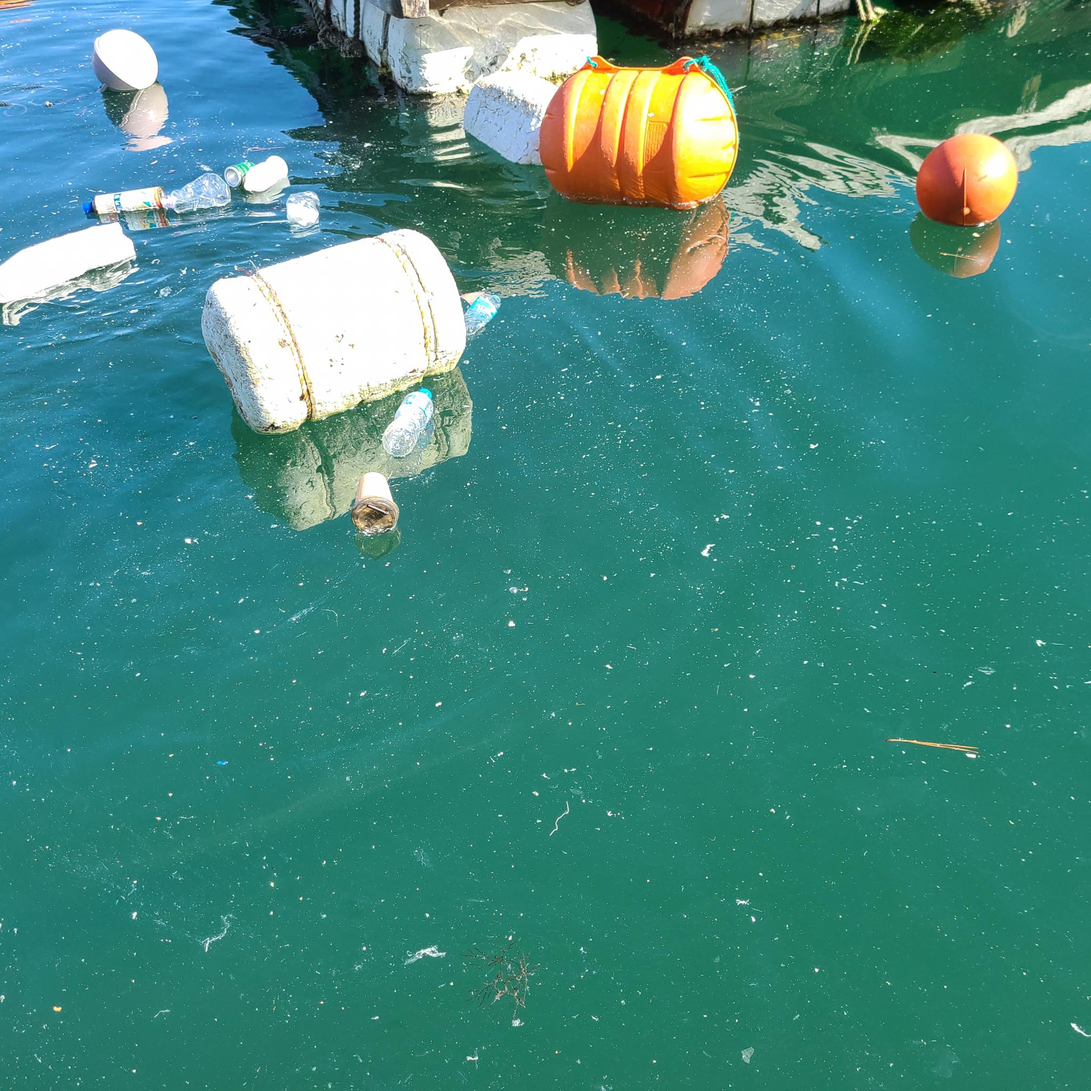sampah_terapung: (201, 229, 467, 435), (540, 57, 739, 211), (1, 223, 136, 304), (916, 134, 1018, 227), (463, 70, 561, 166), (93, 30, 159, 94), (383, 389, 434, 458), (352, 473, 401, 535), (161, 173, 232, 214), (1, 86, 93, 117), (92, 187, 166, 215), (244, 156, 289, 192), (465, 294, 502, 337), (286, 192, 321, 226), (225, 163, 257, 189)
